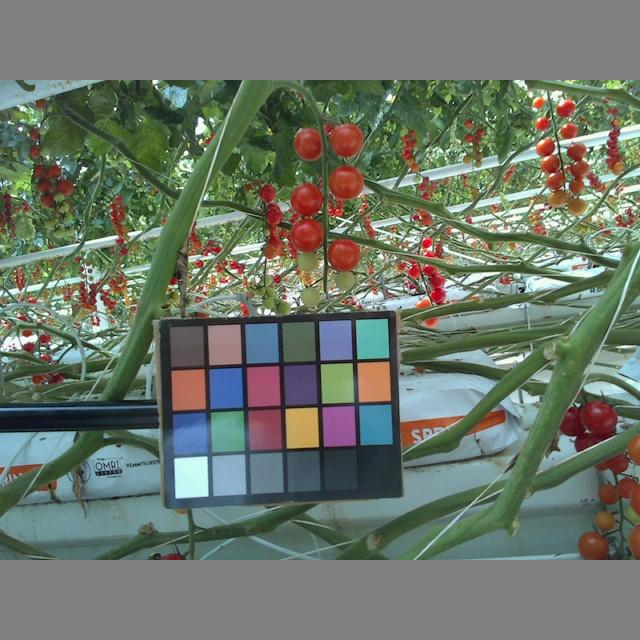green: (295, 249, 322, 273), (333, 271, 358, 292), (298, 286, 322, 307)
pink: (327, 164, 365, 200), (288, 216, 325, 252), (327, 122, 365, 156), (289, 181, 324, 216), (327, 236, 362, 271), (294, 126, 328, 160), (577, 530, 611, 560), (596, 479, 624, 508), (616, 475, 640, 499), (594, 506, 616, 529), (630, 516, 640, 557), (628, 432, 640, 464)
red: (578, 401, 618, 433)
